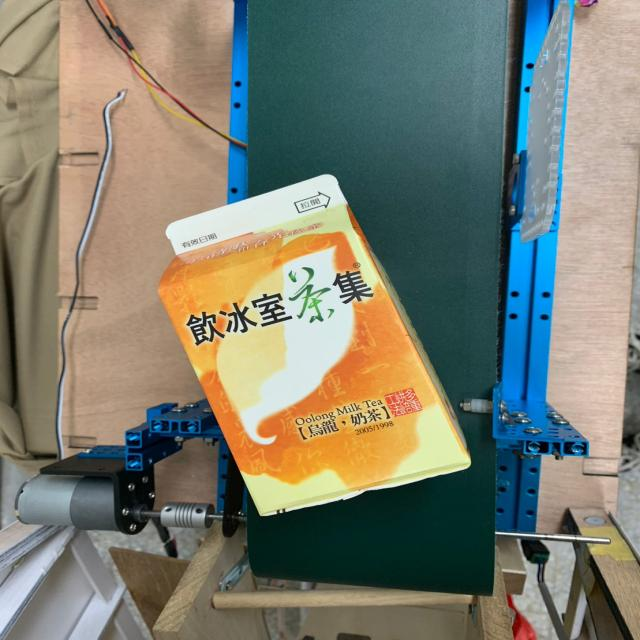non_white_jug: (137, 159, 496, 533)
